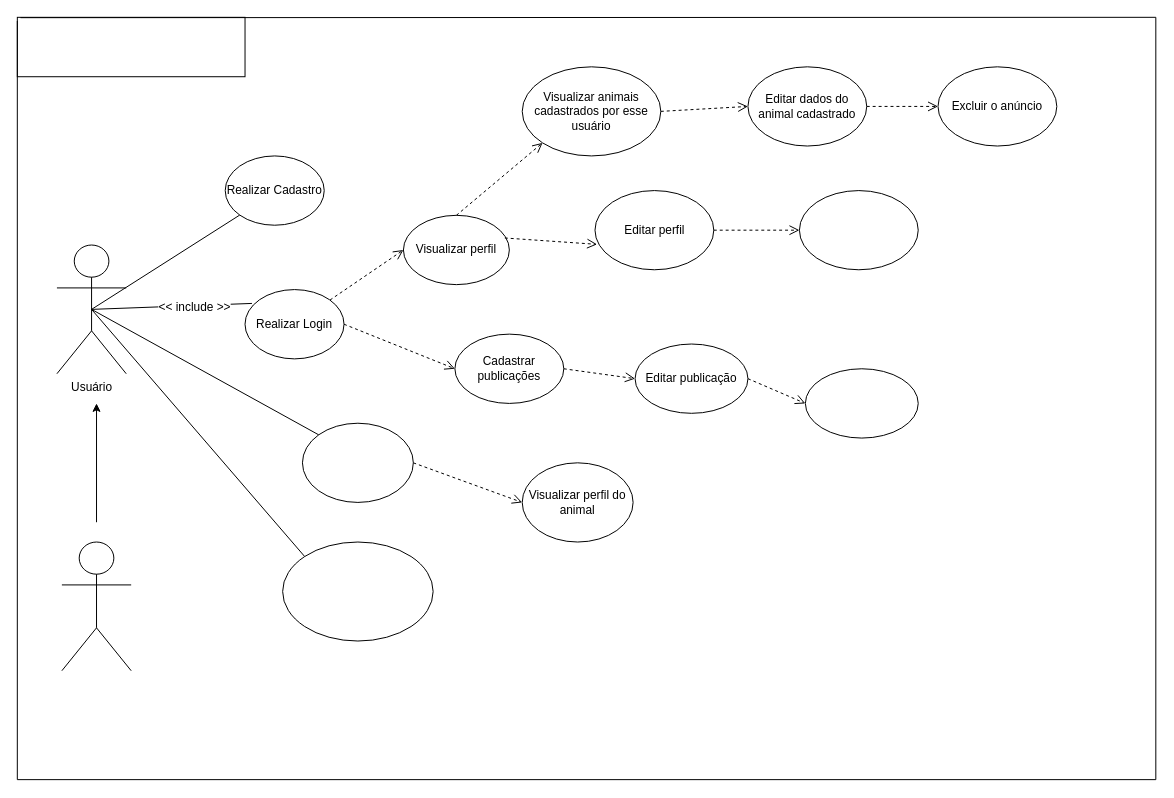
This 1174x798 diagram has some shape labels left out. Each missing label, with the centre of its shape:
"Administrador" goes at point 96,606.
"Enviar o feedback/mensagem para os administradores do software" goes at point 357,591.
"Excluir conta" goes at point 858,230.
"Excluir publicação" goes at point 861,403.
"MiauCãoce Se Puder" goes at point 130,46.
"Visualizar feed" goes at point 357,462.
